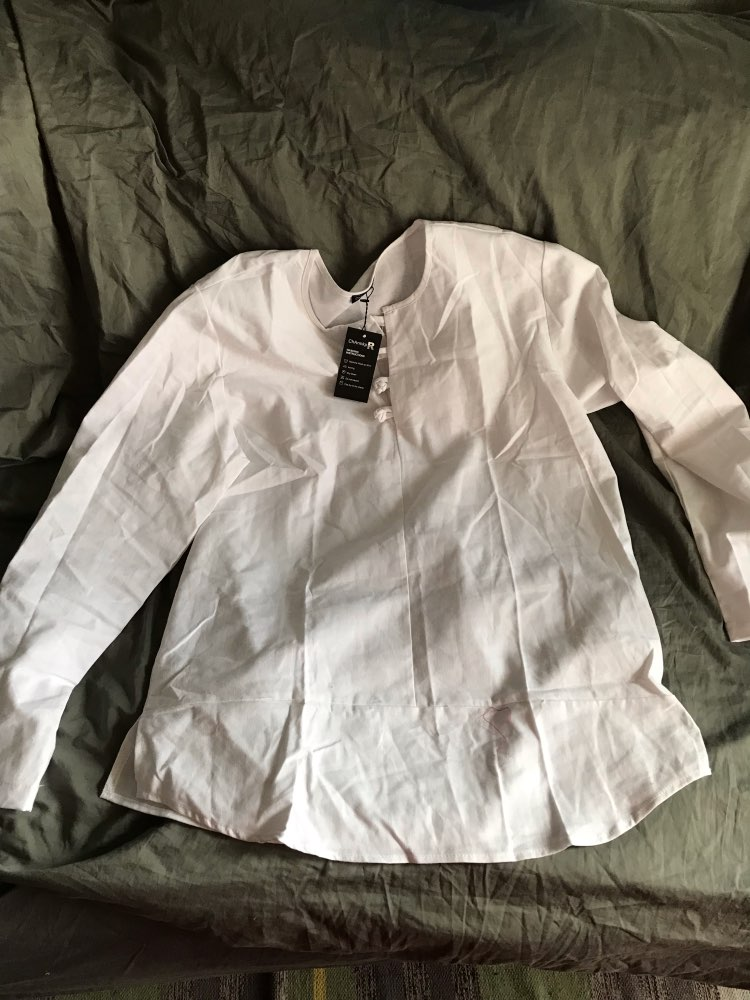shirts: (9, 220, 750, 862)
